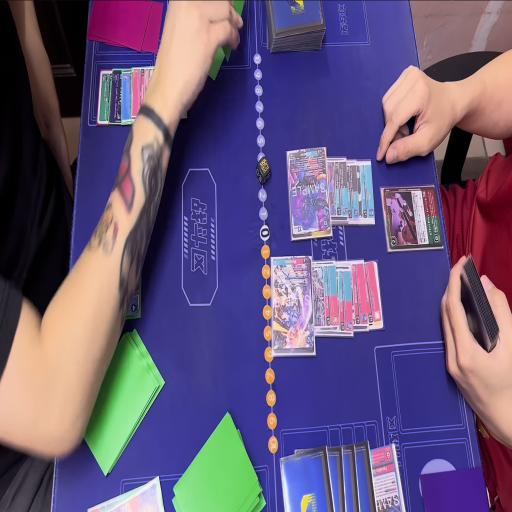card: (380, 184, 442, 255), (270, 256, 314, 356), (286, 141, 330, 240), (86, 473, 165, 512), (368, 439, 404, 512), (311, 260, 339, 332), (131, 64, 162, 123), (326, 150, 350, 222), (364, 256, 386, 332), (356, 158, 377, 230), (335, 265, 356, 337), (342, 156, 363, 225), (351, 257, 370, 330), (94, 67, 112, 128), (109, 64, 124, 126), (121, 70, 132, 132)
